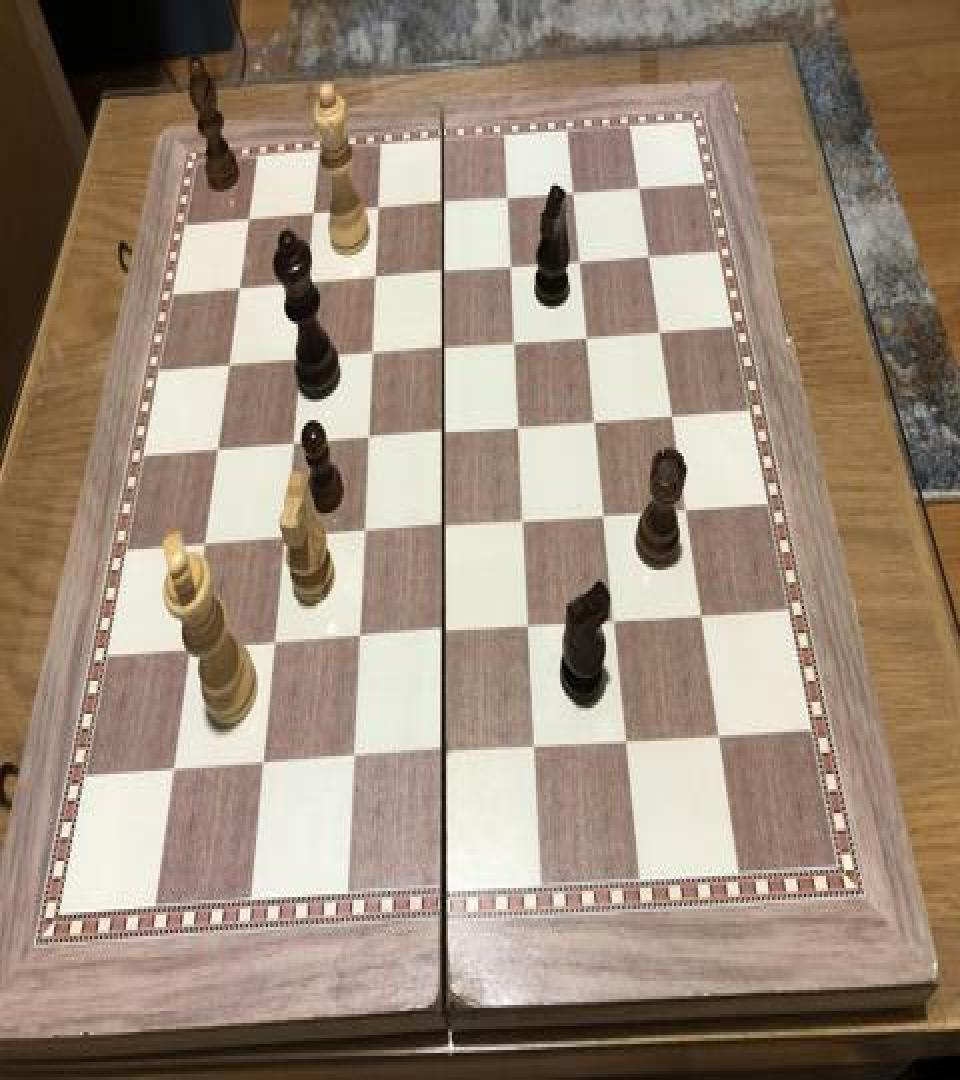xcorner: (351, 514, 375, 551), (271, 520, 295, 557), (690, 595, 714, 632), (603, 601, 627, 638), (261, 625, 285, 662), (177, 631, 201, 668), (628, 168, 652, 204), (562, 174, 586, 210), (497, 180, 521, 216), (432, 186, 456, 222), (367, 190, 391, 226), (302, 196, 326, 232), (238, 202, 262, 238), (638, 236, 662, 272), (569, 242, 593, 278), (500, 248, 524, 284), (431, 254, 455, 290), (296, 266, 320, 302), (228, 272, 252, 308), (649, 312, 673, 348), (576, 318, 600, 354), (503, 324, 527, 360), (431, 330, 455, 366), (360, 336, 384, 372), (288, 342, 312, 378), (217, 346, 241, 382), (661, 396, 685, 432), (584, 402, 608, 438), (507, 408, 531, 444), (431, 414, 455, 450), (355, 420, 379, 456), (280, 426, 304, 462), (205, 432, 229, 468), (675, 489, 699, 525), (593, 495, 617, 531), (512, 501, 536, 537), (431, 508, 455, 544), (192, 526, 216, 562), (517, 608, 541, 644), (431, 614, 455, 650), (345, 620, 369, 656), (708, 716, 732, 752), (615, 723, 639, 759), (522, 729, 546, 765), (430, 735, 454, 771), (339, 741, 363, 777), (249, 747, 273, 783), (159, 753, 183, 789), (363, 260, 387, 295)
